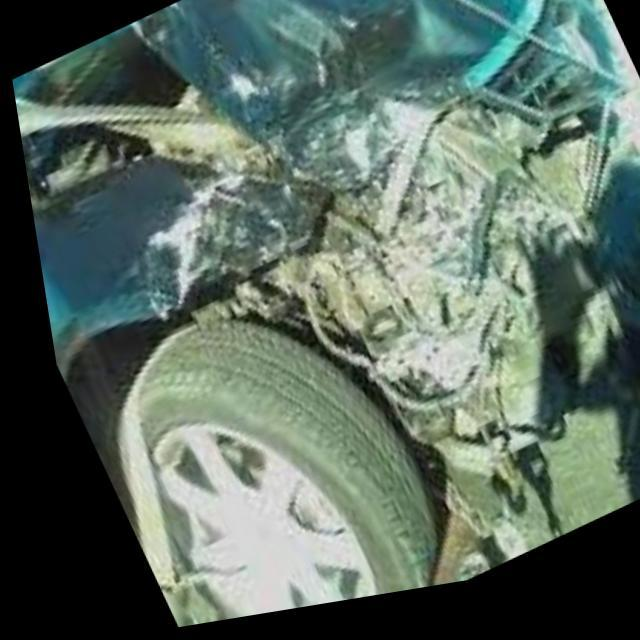crash: (14, 0, 640, 532)
